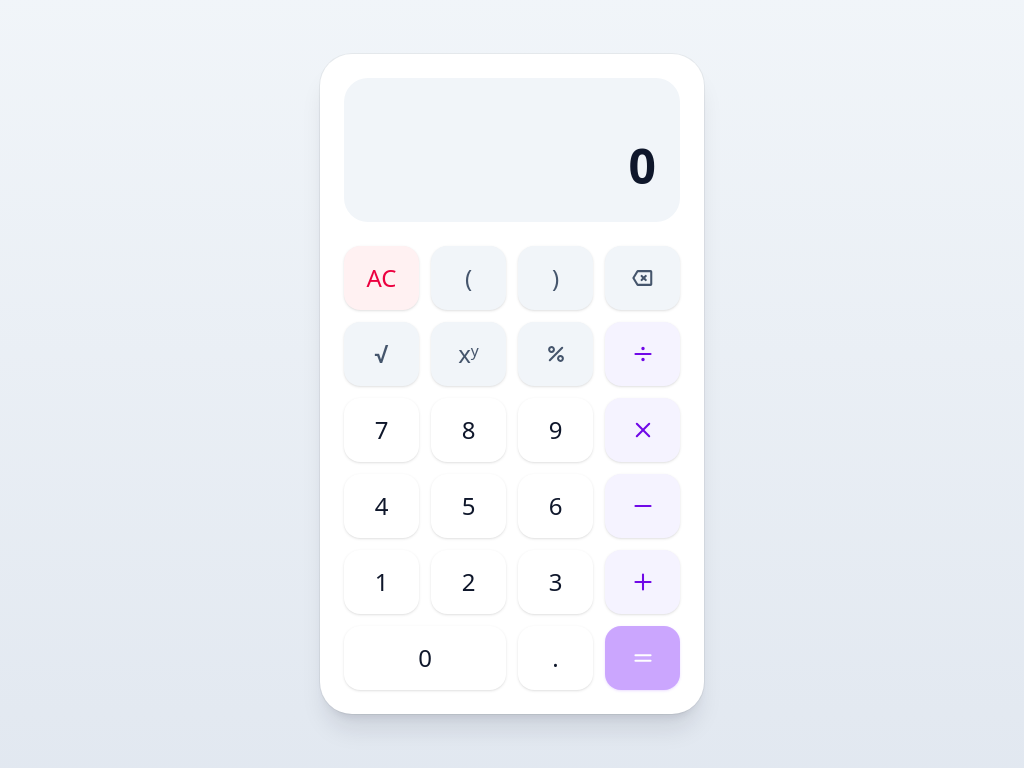
Test: App › shows "7 × 8" in the display after clicking 7, ×, 8
The width and height of the screenshot is (1024, 768).
Click the button "7" at coordinates (382, 430), box [344, 398, 419, 462]
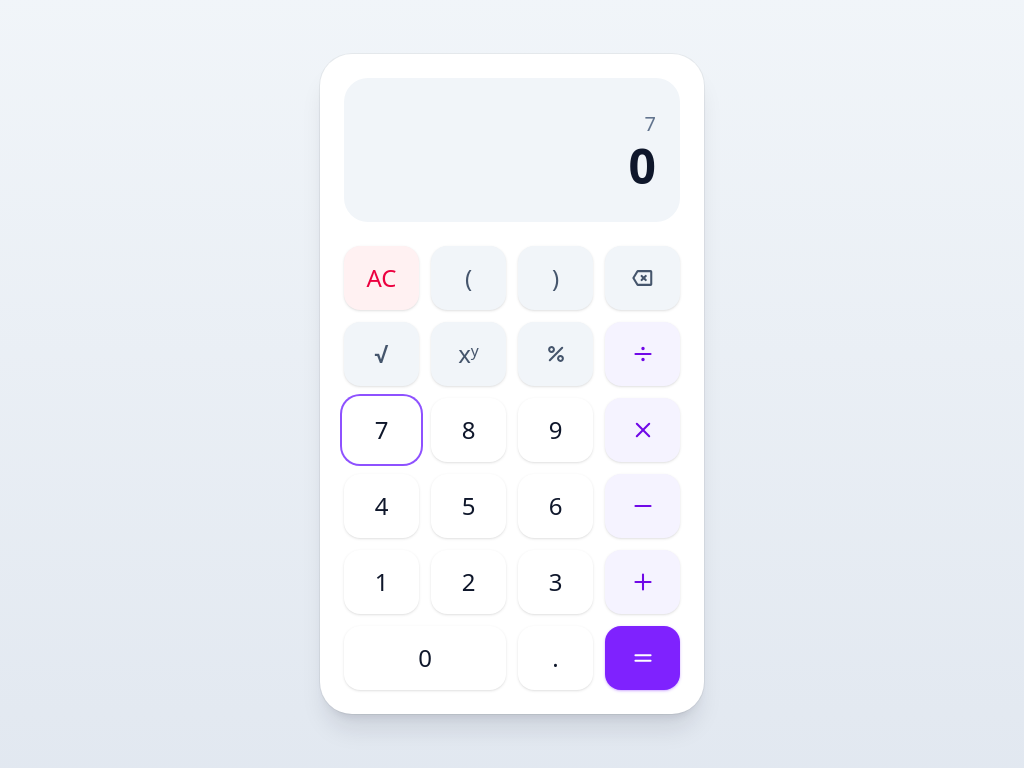
Click the button named "Multiply" at coordinates (642, 430), box [605, 398, 680, 462]
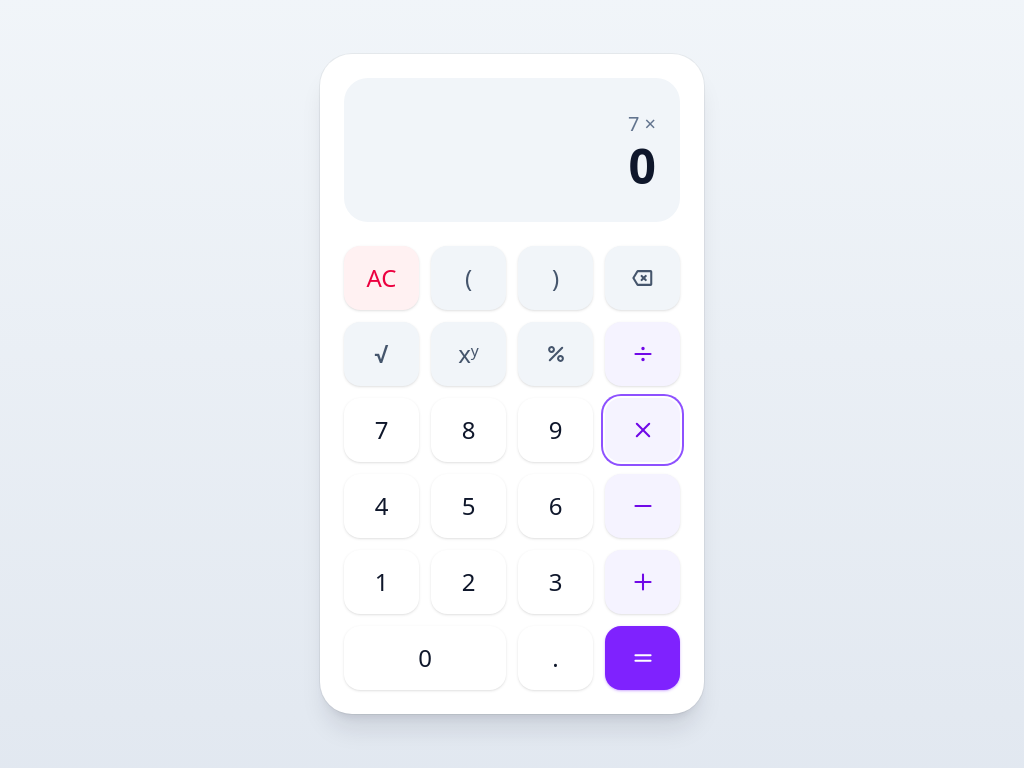
Click the button "8" at coordinates (468, 430), box [431, 398, 506, 462]
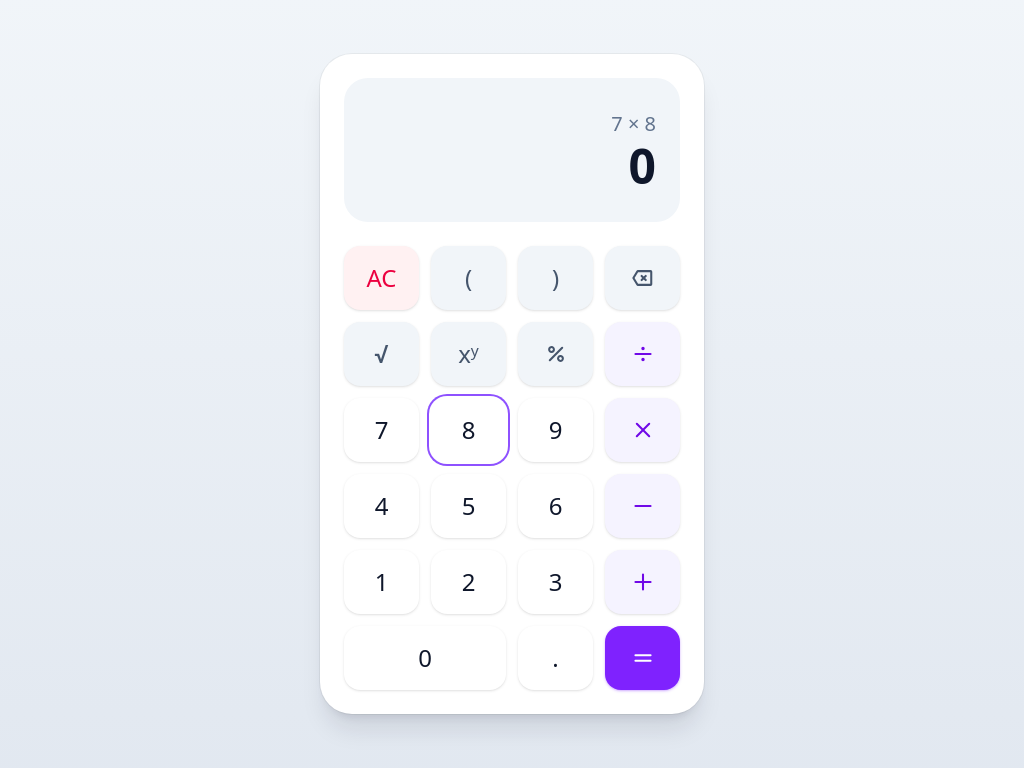
Check: the text with test id "expression-display" reads "7 × 8", box [611, 110, 656, 137]
